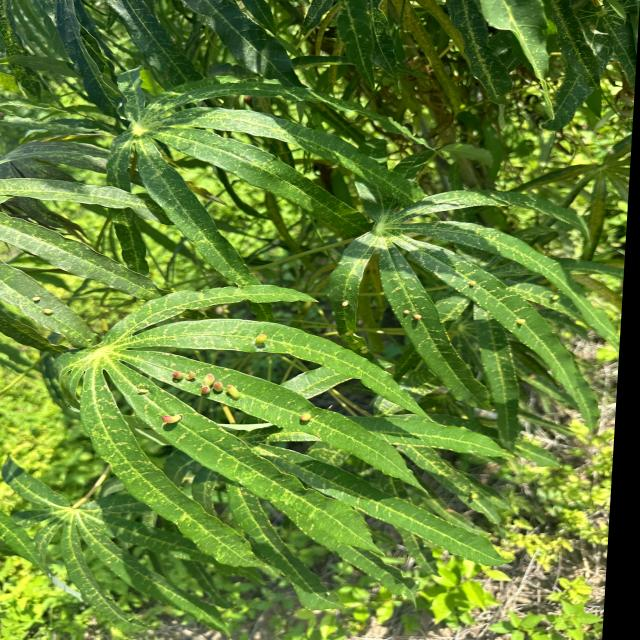Mosca: (169, 353, 251, 403), (23, 287, 66, 322), (117, 367, 155, 402), (150, 402, 187, 434), (245, 325, 281, 356), (292, 398, 322, 424), (334, 287, 362, 310), (508, 308, 528, 336), (543, 288, 574, 304), (454, 275, 477, 294), (399, 305, 423, 323)
